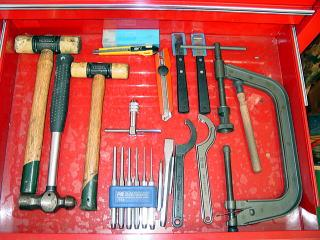hammer: (15, 51, 78, 215)
